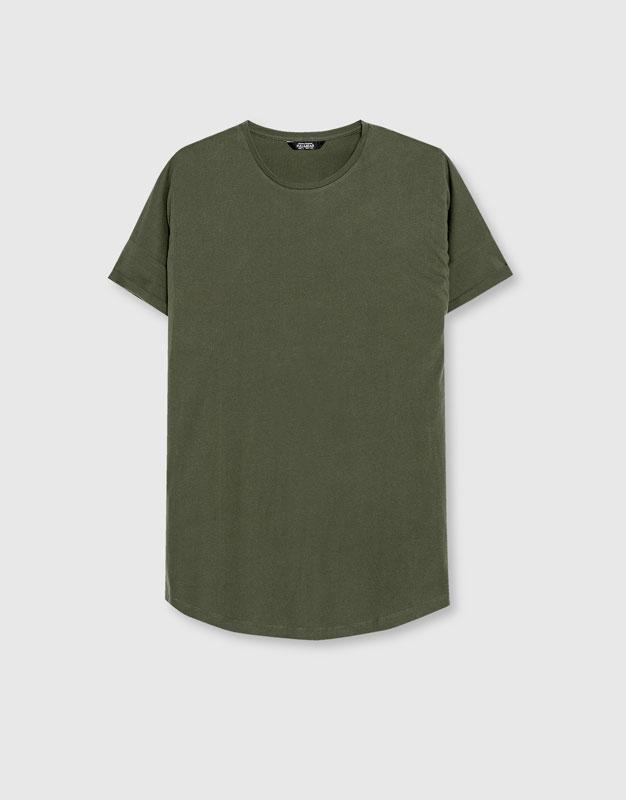teeshirt: (90, 112, 556, 680)
